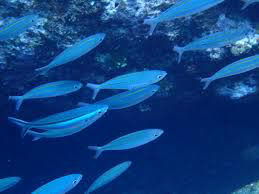saba: (35, 28, 110, 74)
